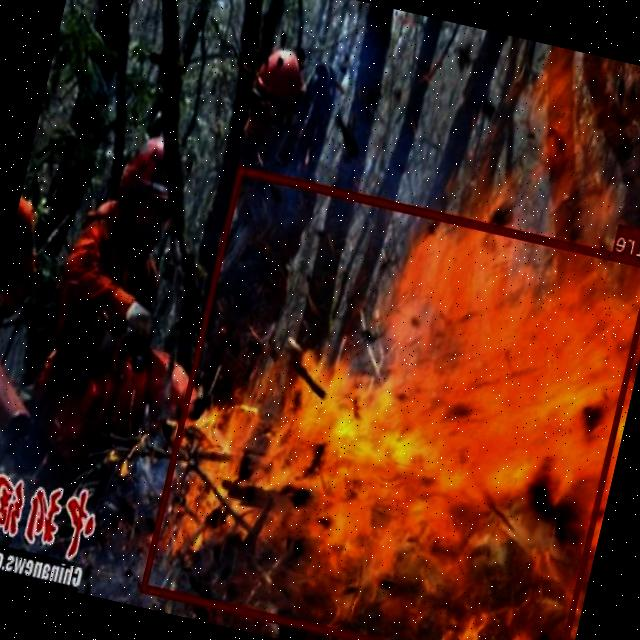fire: (142, 164, 640, 640)
